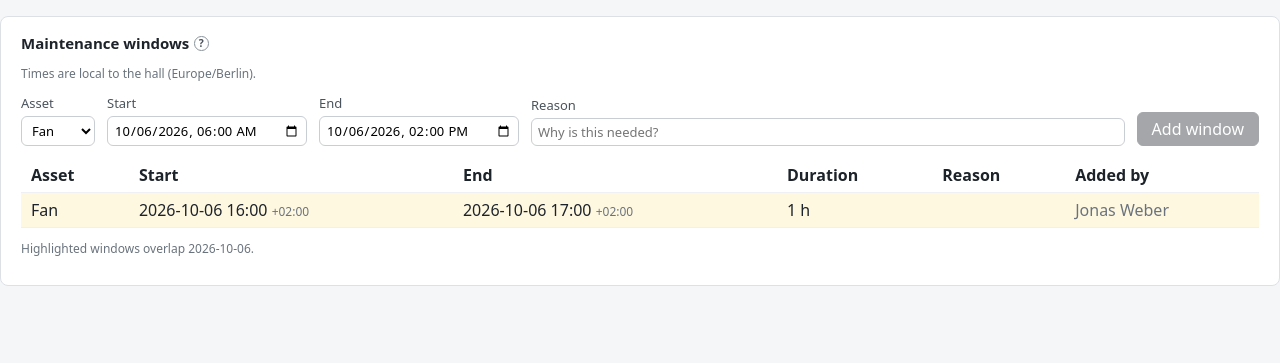
Test: C1: a duplicate shows who recorded it and refreshes the list
Type "Belt change" into the field named "reason" at (828,132), box [531,118,1125,146]
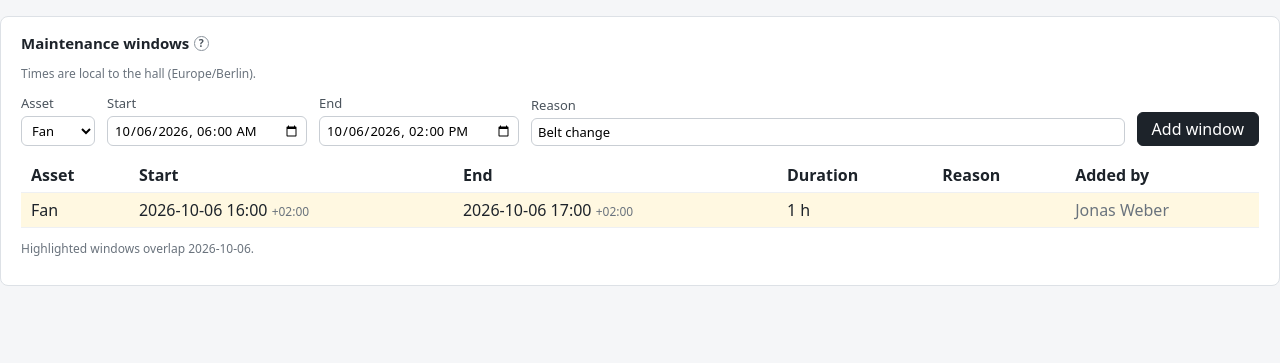
Submit the form, box [21,94,1259,146]
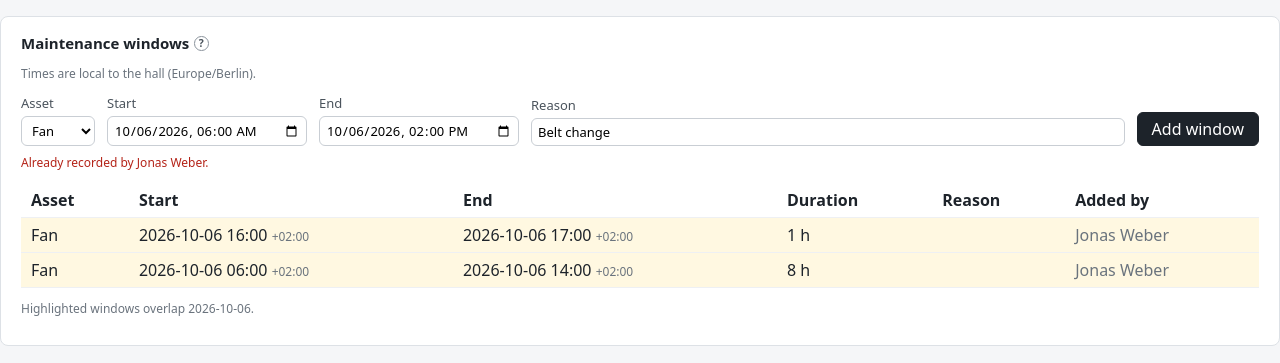
Check: the text "Already recorded by Jonas Weber" is shown, box [21,154,208,171]
